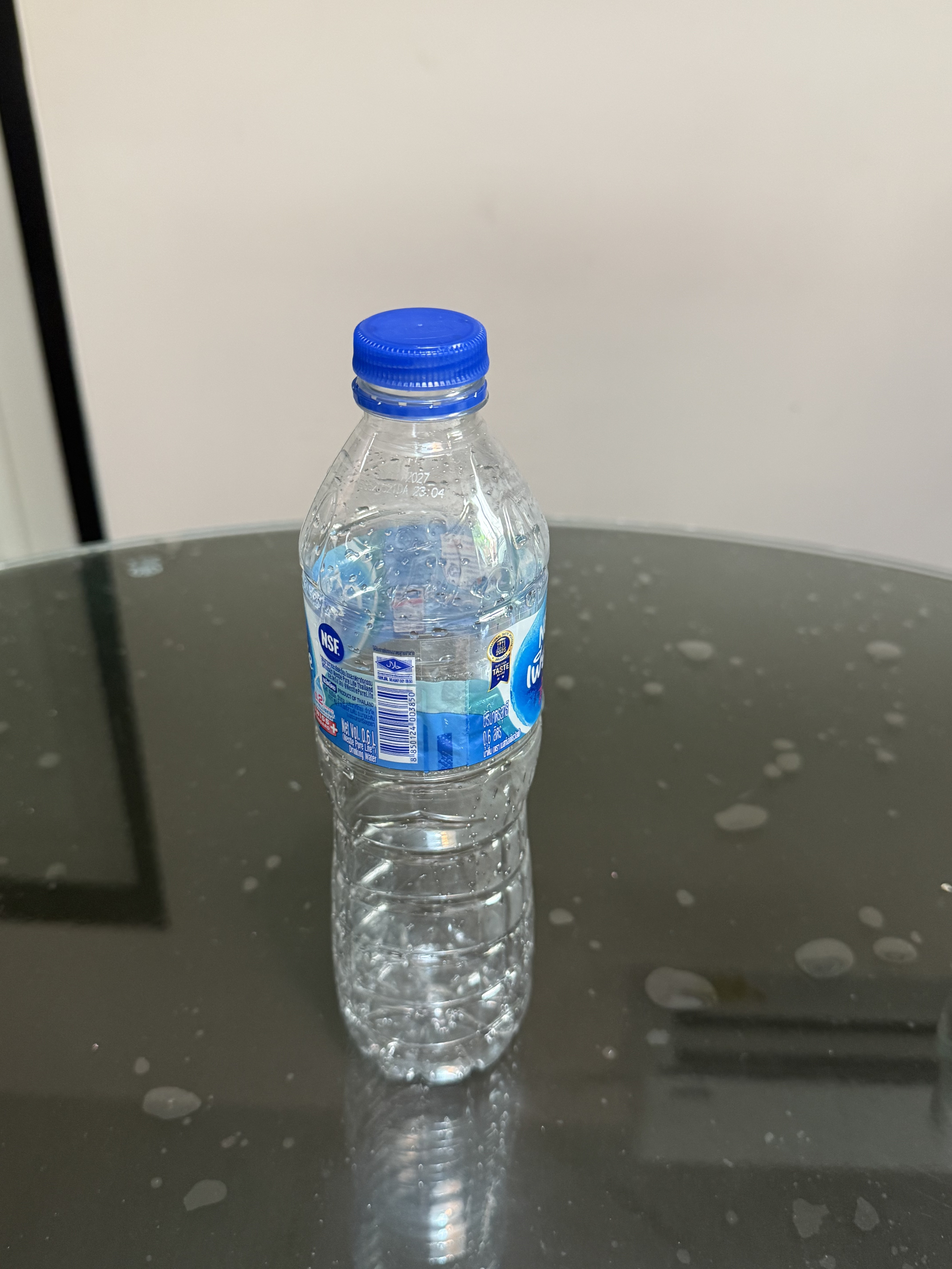half_cap: (346, 299, 493, 417)
